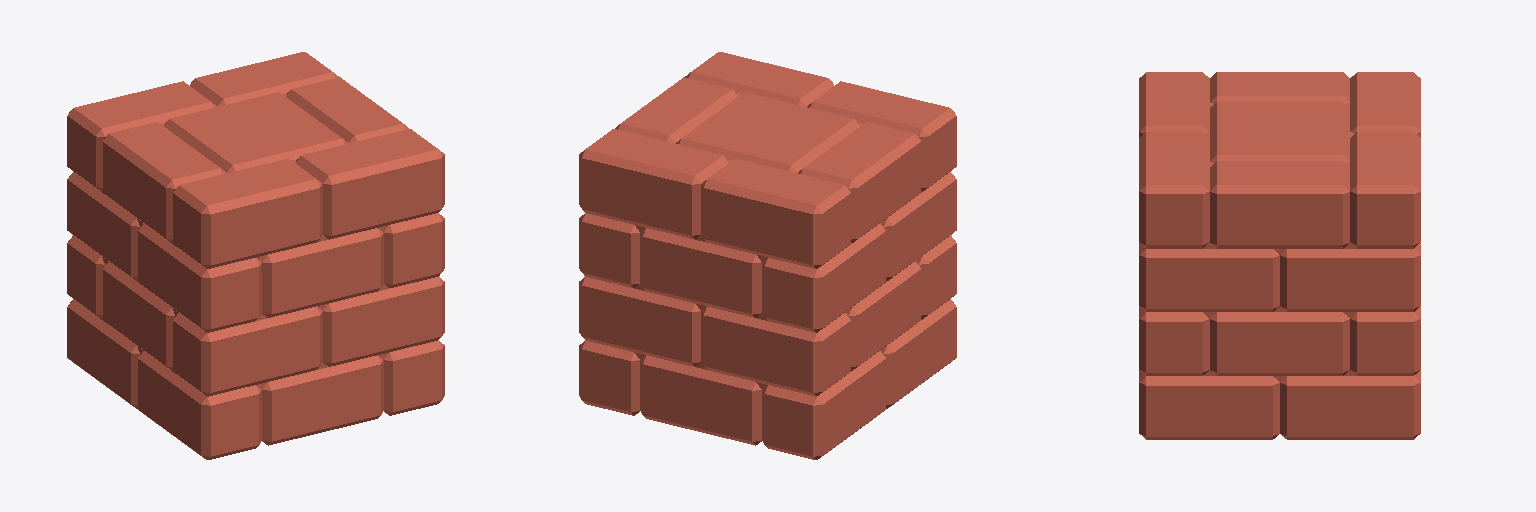
The model's file is Prop_Block_Brick.obj.
3 renders of one model, left to right at view 1: azimuth 30°, elevation 25°; view 2: azimuth 150°, elevation 25°; view 3: azimuth 270°, elevation 25°, orthographic.
Visible parts, largest first — view 1: Block; view 2: Block; view 3: Block.
Boxes of the visible parts, x1,y1,x2,y2 form: Block: [67, 52, 444, 459]; Block: [579, 52, 956, 459]; Block: [1139, 72, 1420, 439].
Bounding box in the file's own units: 1 × 1 × 1.